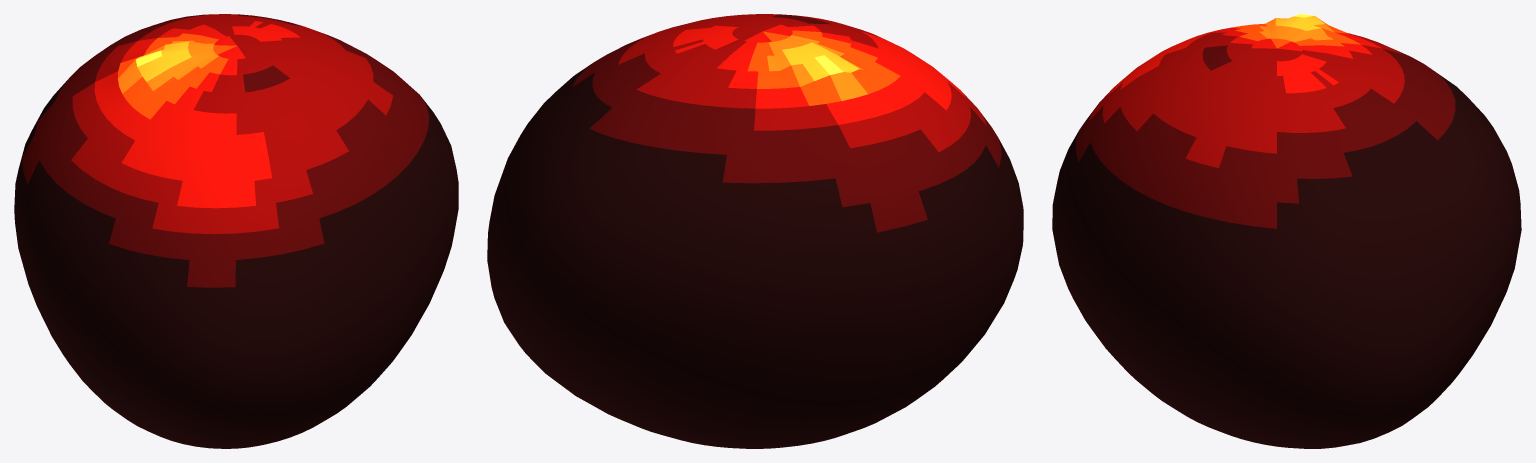
The model's file is red_ember.glb.
The picture shows the model from 3 angles, left to right: view 1: azimuth 30°, elevation 25°; view 2: azimuth 150°, elevation 25°; view 3: azimuth 270°, elevation 25°; orthographic projection. The views are drawn at different scales.
Visible parts, largest first — view 1: red_ember; view 2: red_ember; view 3: red_ember.
Part boxes in pixels (<box>): red_ember: <box>14,14,458,448</box>; red_ember: <box>487,14,1023,448</box>; red_ember: <box>1052,14,1521,448</box>.
Size of the model in its own units: 10.77 by 9.4 by 10.63.
